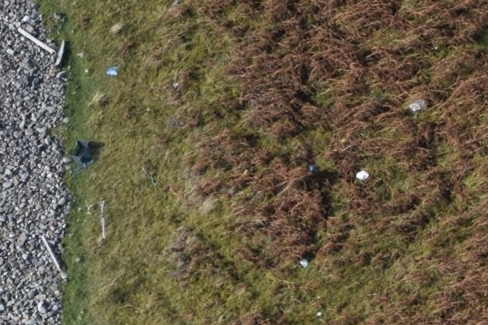straight_bar: (277, 93, 439, 275), (36, 231, 68, 278), (16, 25, 57, 59), (50, 36, 75, 73)
white_in_green: (54, 125, 110, 175), (91, 50, 133, 89)
